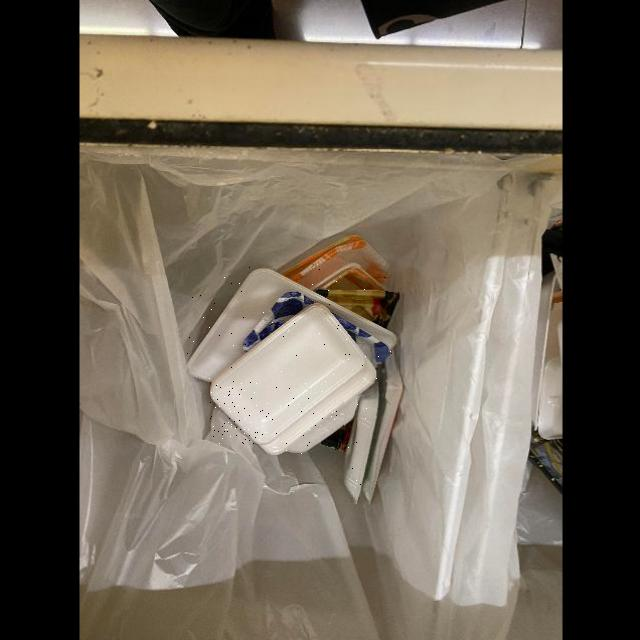styrofoam: (187, 267, 398, 382), (210, 302, 366, 444), (258, 354, 379, 455), (344, 377, 379, 504)
